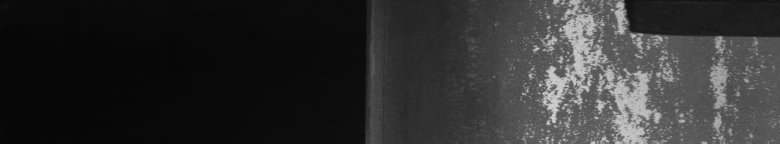kb: (520, 4, 774, 136)
